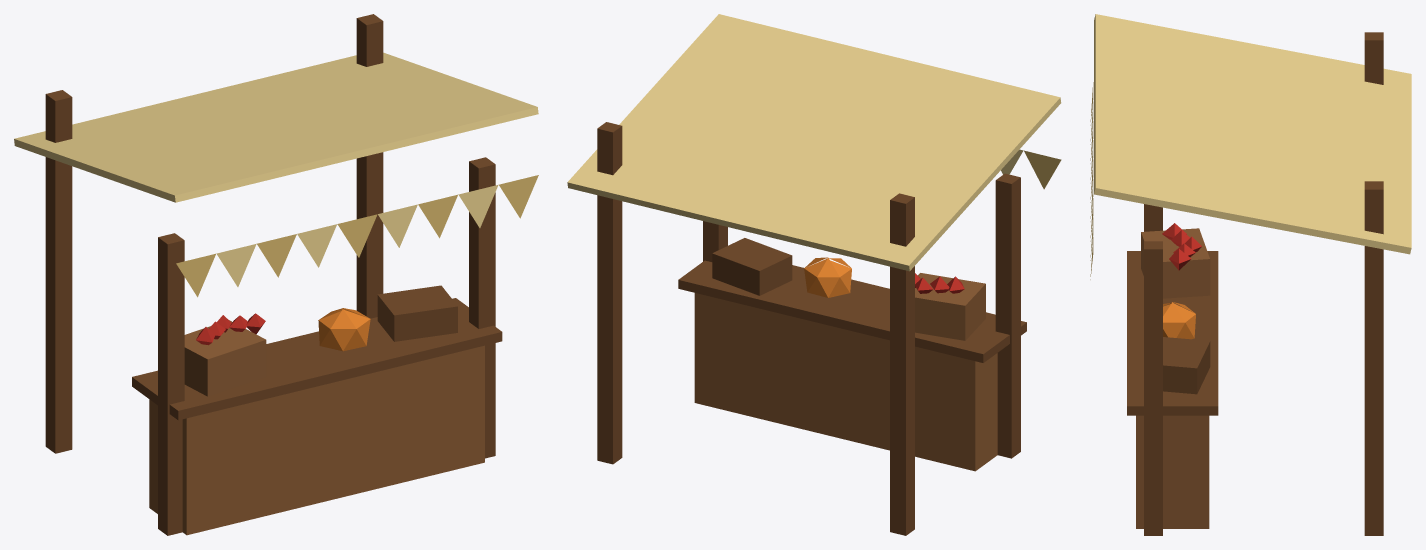
The model's file is market_stall.glb.
3 renders of one model, left to right at view 1: azimuth 30°, elevation 25°; view 2: azimuth 150°, elevation 25°; view 3: azimuth 270°, elevation 25°, orthographic. The views are drawn at different scales.
Visible parts, largest first — view 1: market_stall2; view 2: market_stall2; view 3: market_stall2.
Boxes of the visible parts, x1,y1,x2,y2 form: market_stall2: (14,14,538,535); market_stall2: (567,14,1061,535); market_stall2: (1090,14,1411,535).
Size of the model in its own units: 2.8 by 2.67 by 2.19.
